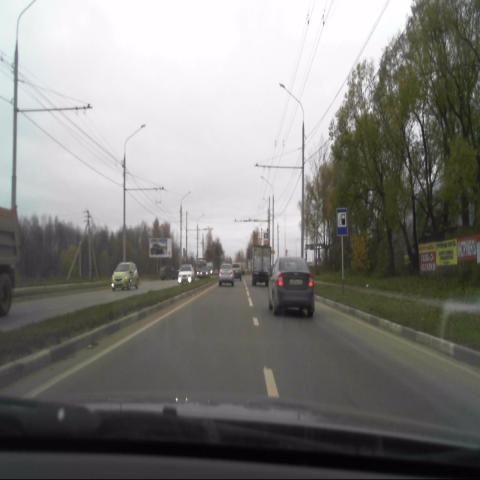7_3: (336, 208, 349, 236)
